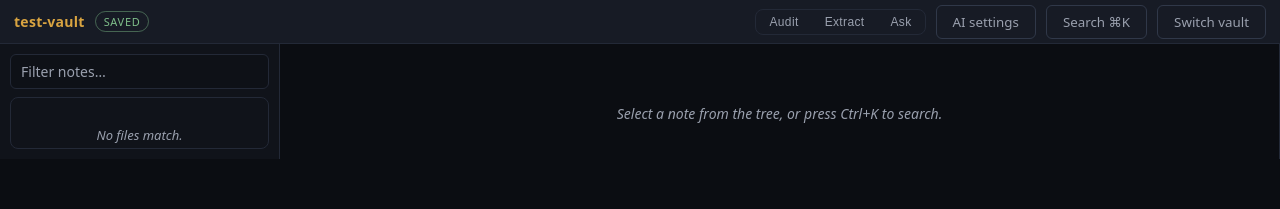
Scenario: App — AI right rail (M2 I1) › Audit tab mounts the Findings panel (rules pass works with no vault note open)
Step 1. Click the button "Audit" → point(784, 22), box [756,10,812,34]
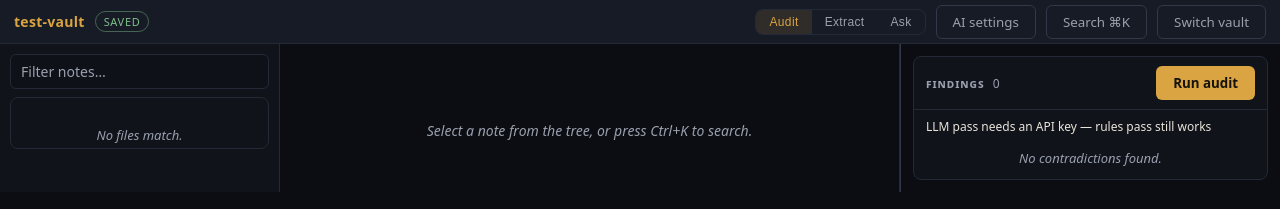
Now the element named "Findings" is shown, box [913,56,1268,180]
Now the text "Run audit" is shown, box [1156,66,1255,100]
